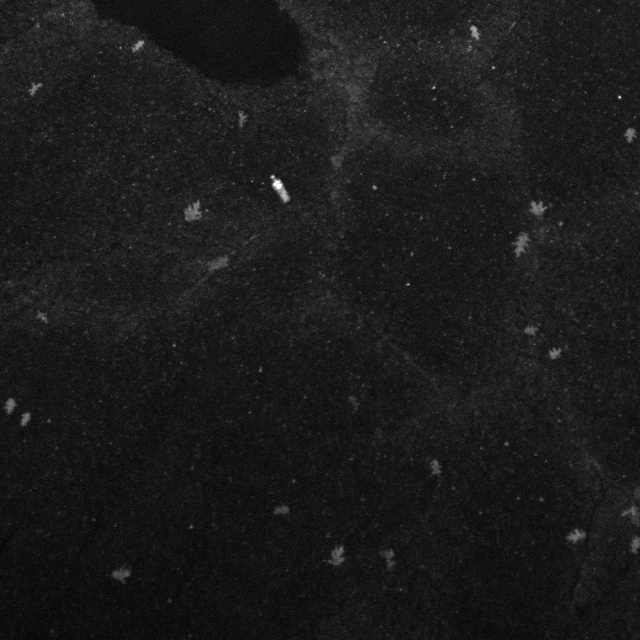bottle: (265, 173, 297, 206)
